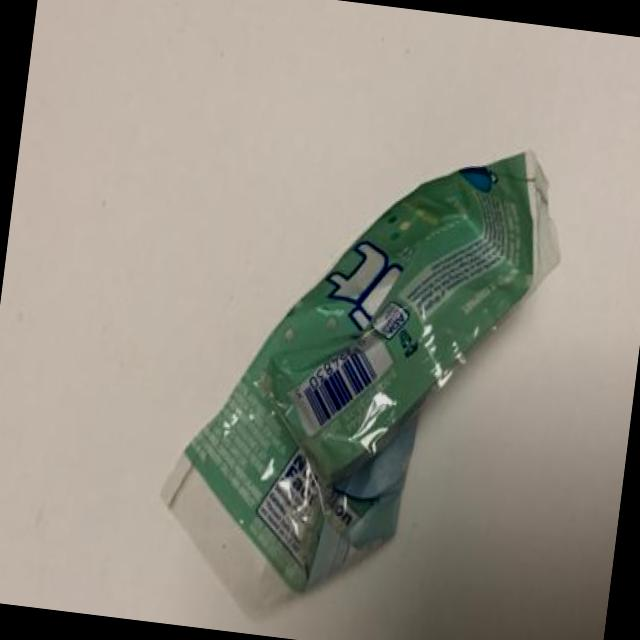giay_goi: (163, 153, 560, 616)
